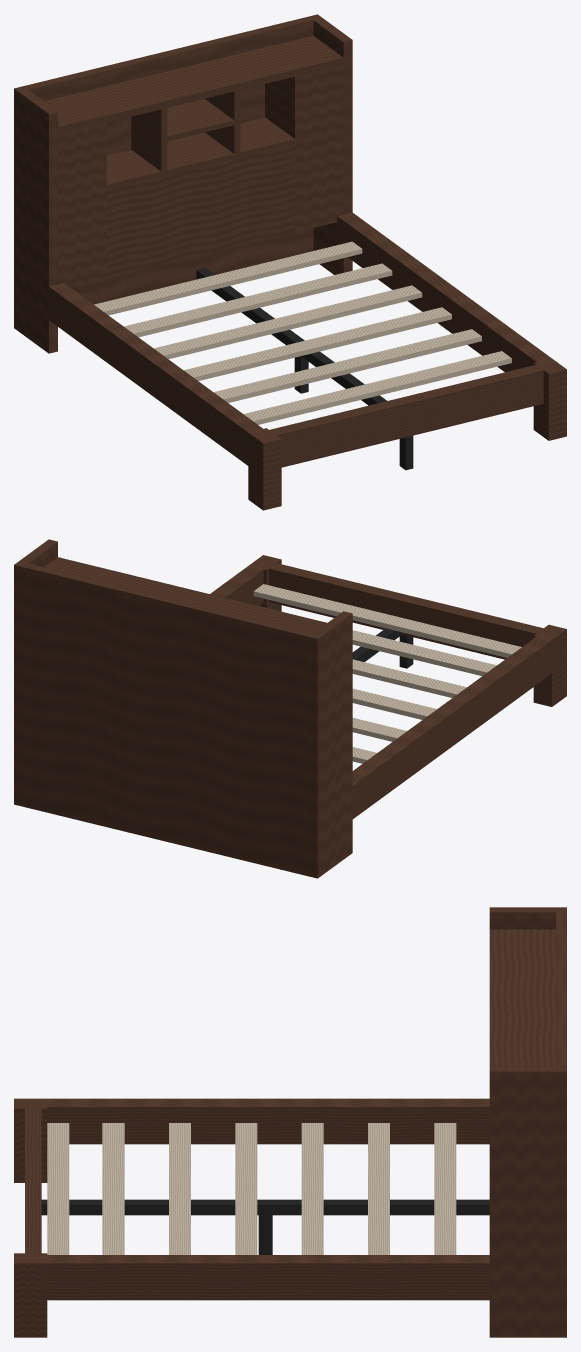
The picture shows the model from 3 angles, top to bottom: view 1: azimuth 30°, elevation 25°; view 2: azimuth 150°, elevation 25°; view 3: azimuth 270°, elevation 25°; orthographic projection. The views are drawn at different scales.
Parts seen in each view (by area): view 1: 7 headboard_center_lower_panel, 1 headboard_back_panel, 14 footboard_rail, 4 headboard_top_shelf, 2 headboard_left_side, 12 left_side_rail, 6 headboard_right_cabinet, 13 right_side_rail, 5 headboard_left_cabinet, 8 headboard_cubby_bottom_shelf, 20 slat_1, 21 slat_2 (+11 smaller); view 2: 1 headboard_back_panel, 2 headboard_left_side, 12 left_side_rail, 14 footboard_rail, 4 headboard_top_shelf, 26 slat_7, 3 headboard_right_side, 25 slat_6, 15 front_left_leg, 24 slat_5, 13 right_side_rail, 23 slat_4 (+3 smaller); view 3: 13 right_side_rail, 3 headboard_right_side, 12 left_side_rail, 4 headboard_top_shelf, 18 center_support_beam, 1 headboard_back_panel, 20 slat_1, 22 slat_3, 23 slat_4, 25 slat_6, 26 slat_7, 21 slat_2 (+6 smaller).
Boxes of the visible parts, x1,y1,x2,y2 form: 7 headboard_center_lower_panel: [106, 144, 294, 278]; 1 headboard_back_panel: [14, 14, 321, 330]; 14 footboard_rail: [266, 364, 546, 467]; 4 headboard_top_shelf: [44, 36, 343, 134]; 2 headboard_left_side: [14, 86, 57, 353]; 12 left_side_rail: [49, 283, 265, 467]; 6 headboard_right_cabinet: [265, 65, 343, 232]; 13 right_side_rail: [337, 212, 553, 372]; 5 headboard_left_cabinet: [58, 122, 106, 287]; 8 headboard_cubby_bottom_shelf: [106, 117, 294, 189]; 20 slat_1: [94, 241, 362, 315]; 21 slat_2: [124, 263, 392, 337]; 1 headboard_back_panel: [14, 561, 322, 878]; 2 headboard_left_side: [308, 611, 352, 877]; 12 left_side_rail: [352, 634, 554, 818]; 14 footboard_rail: [267, 562, 546, 659]; 4 headboard_top_shelf: [23, 557, 326, 659]; 26 slat_7: [253, 584, 521, 657]; 3 headboard_right_side: [14, 539, 57, 806]; 25 slat_6: [352, 630, 496, 675]; 15 front_left_leg: [533, 624, 566, 706]; 24 slat_5: [352, 659, 466, 697]; 13 right_side_rail: [210, 564, 265, 605]; 23 slat_4: [352, 688, 436, 719]; 13 right_side_rail: [41, 1255, 489, 1300]; 3 headboard_right_side: [489, 1066, 566, 1337]; 12 left_side_rail: [41, 1098, 489, 1144]; 4 headboard_top_shelf: [489, 929, 555, 1066]; 18 center_support_beam: [41, 1199, 489, 1215]; 1 headboard_back_panel: [556, 907, 566, 1337]; 20 slat_1: [434, 1123, 456, 1254]; 22 slat_3: [301, 1123, 323, 1254]; 23 slat_4: [235, 1123, 257, 1254]; 25 slat_6: [102, 1123, 124, 1254]; 26 slat_7: [47, 1123, 69, 1254]; 21 slat_2: [368, 1123, 389, 1254].
Bounding box in the file's own units: 1.33 × 1 × 1.88.
3 materials, 2 textured.
